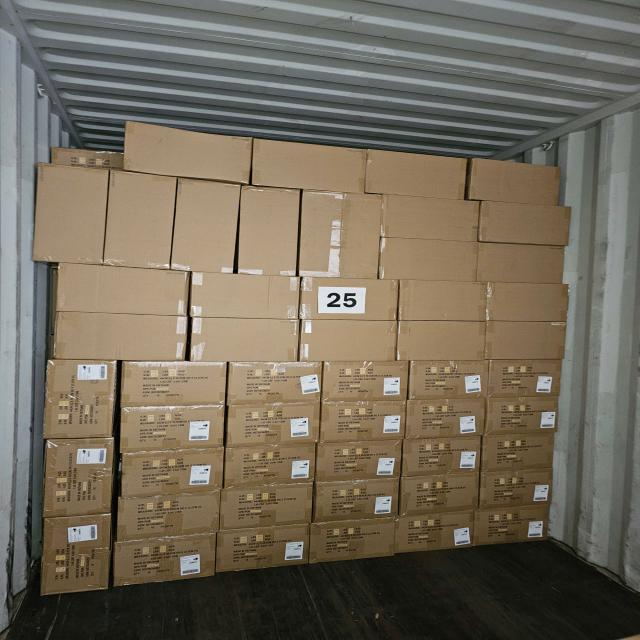Carton: (55, 298, 190, 360), (127, 118, 253, 182), (300, 188, 382, 278), (52, 263, 189, 315), (36, 163, 104, 264), (109, 172, 176, 271), (251, 137, 365, 192), (177, 179, 240, 275), (44, 357, 114, 437), (42, 441, 114, 518), (43, 519, 113, 598), (242, 186, 301, 277), (119, 405, 227, 453), (189, 273, 298, 320), (112, 540, 218, 588), (121, 359, 228, 406), (367, 152, 468, 201), (193, 319, 300, 365), (113, 494, 220, 538), (318, 444, 403, 496), (218, 525, 310, 573), (119, 452, 224, 494), (384, 197, 482, 241), (380, 241, 480, 284), (300, 321, 399, 364), (302, 277, 403, 319), (473, 162, 563, 208), (230, 360, 326, 403), (221, 487, 316, 530), (224, 446, 316, 490), (311, 517, 395, 565), (313, 477, 398, 523), (228, 405, 322, 446), (397, 321, 485, 364), (400, 279, 488, 322), (480, 203, 572, 244), (322, 401, 407, 445), (397, 472, 481, 516), (481, 246, 568, 286), (324, 359, 409, 399), (486, 280, 568, 321), (484, 359, 566, 400), (395, 512, 471, 556), (473, 507, 549, 551), (480, 431, 561, 471), (484, 396, 564, 436), (399, 441, 487, 477), (405, 400, 484, 440), (407, 359, 487, 398), (489, 323, 569, 361), (478, 473, 554, 510)
